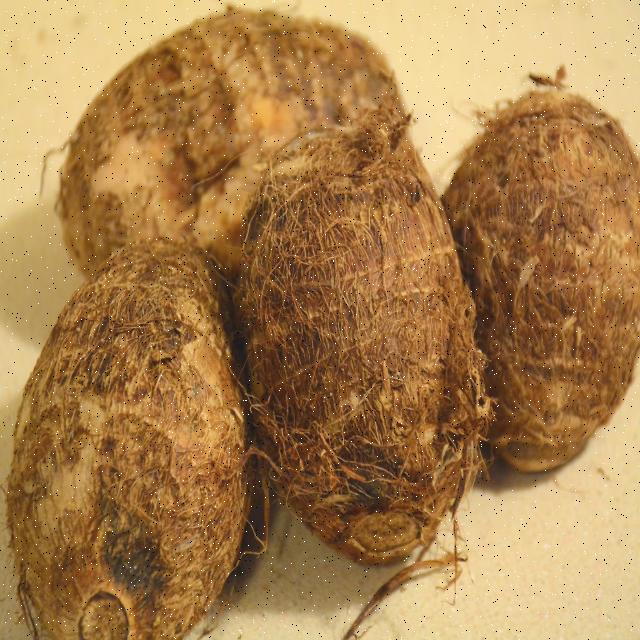Taro Root: (242, 146, 483, 556), (5, 240, 249, 640), (54, 24, 408, 278), (439, 71, 640, 476)
